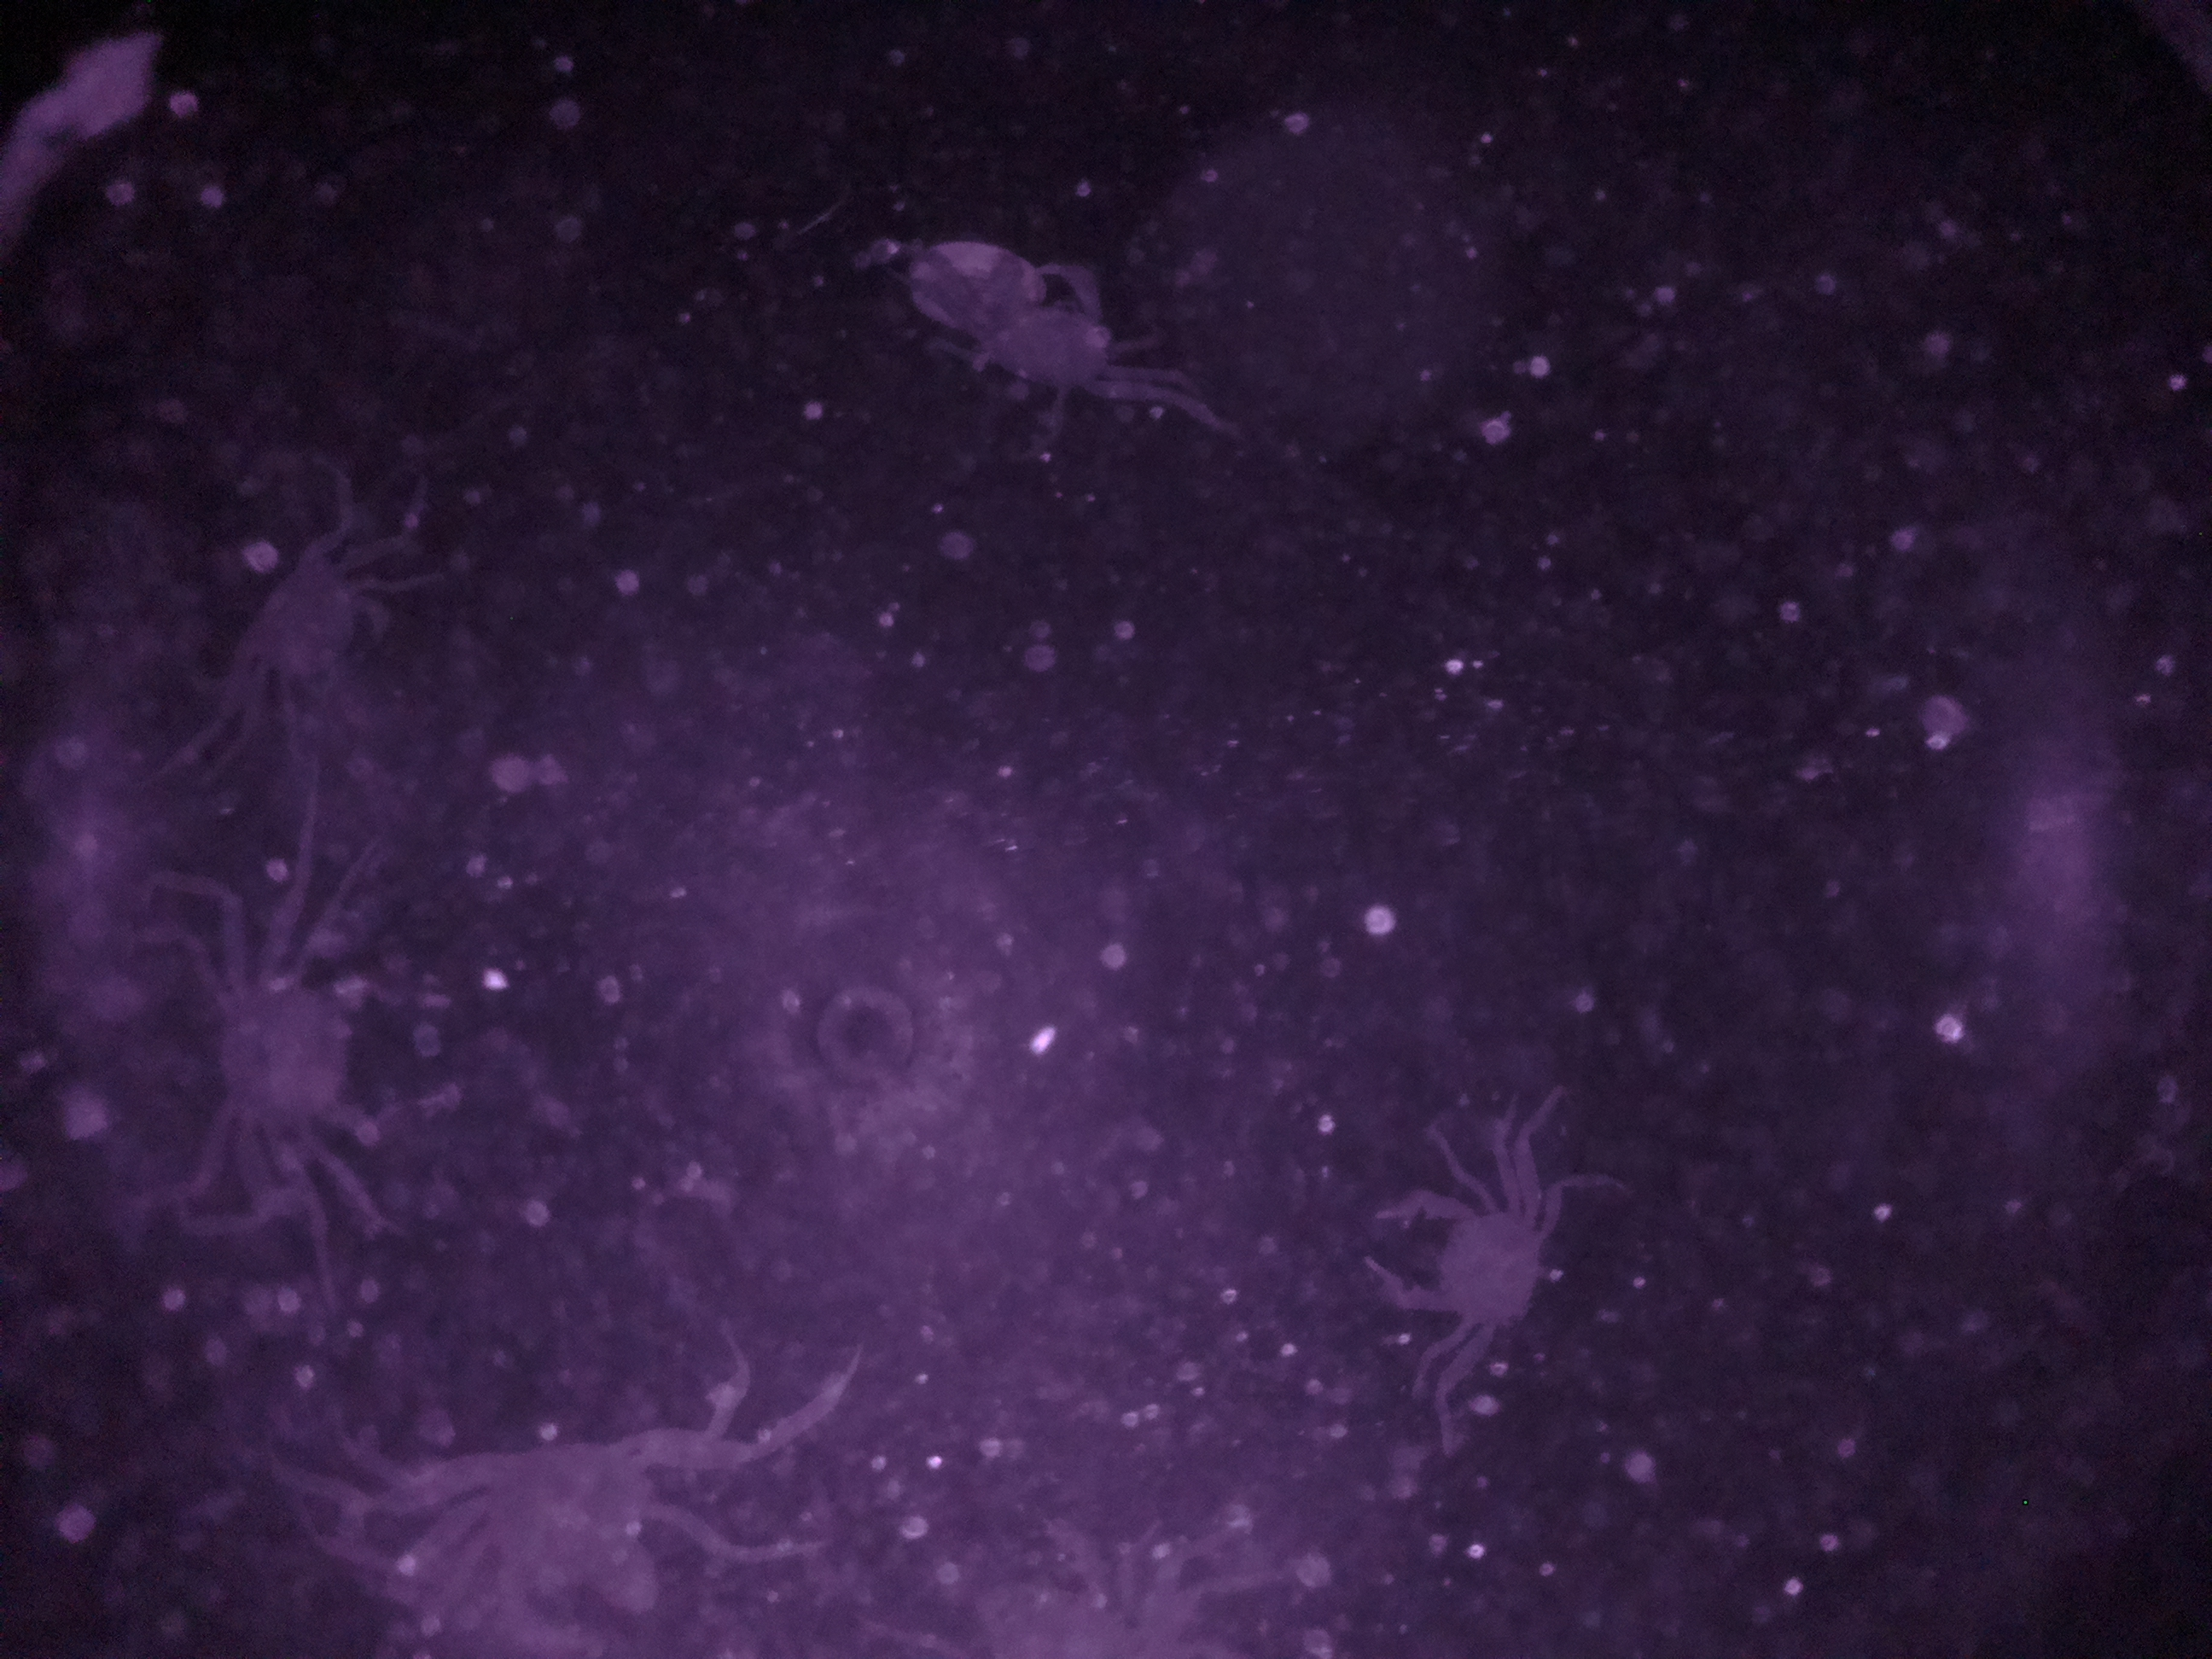Crab: (1357, 1154, 1583, 1368)
